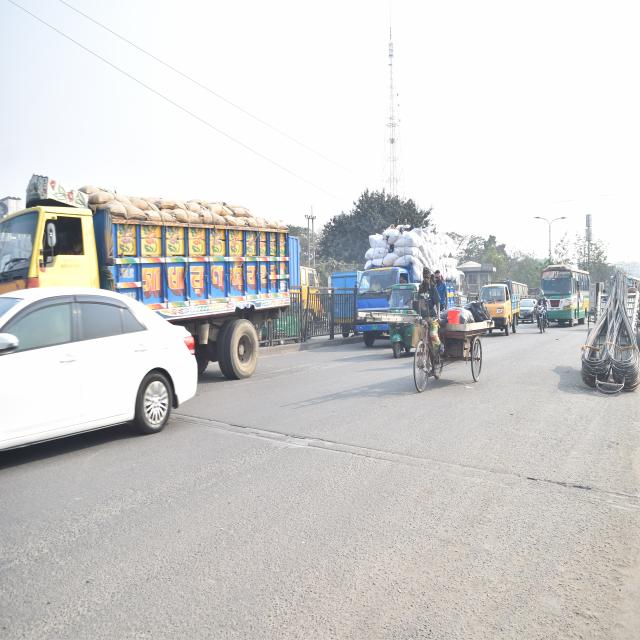bus: (545, 262, 592, 327)
car: (0, 277, 204, 464), (518, 290, 538, 327)
motorbike: (530, 290, 549, 338)
pickup-van: (346, 266, 401, 350), (480, 280, 519, 332)
truck: (0, 166, 302, 390)
